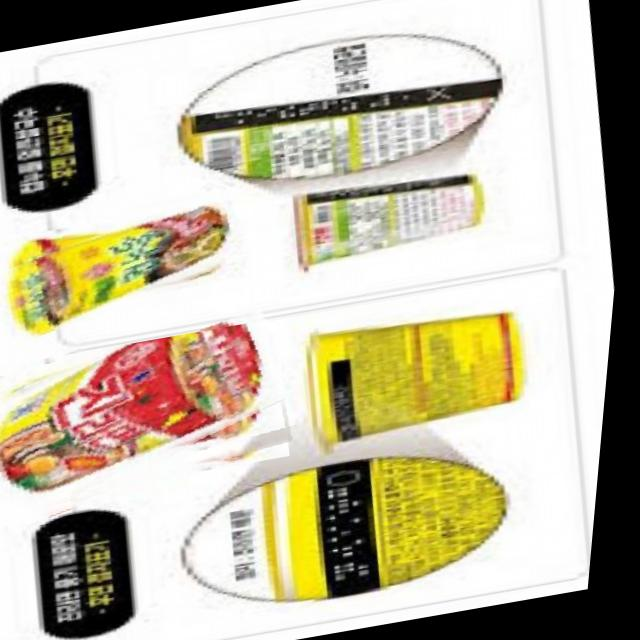Miscellaneous: (0, 316, 314, 522), (0, 197, 255, 338)
